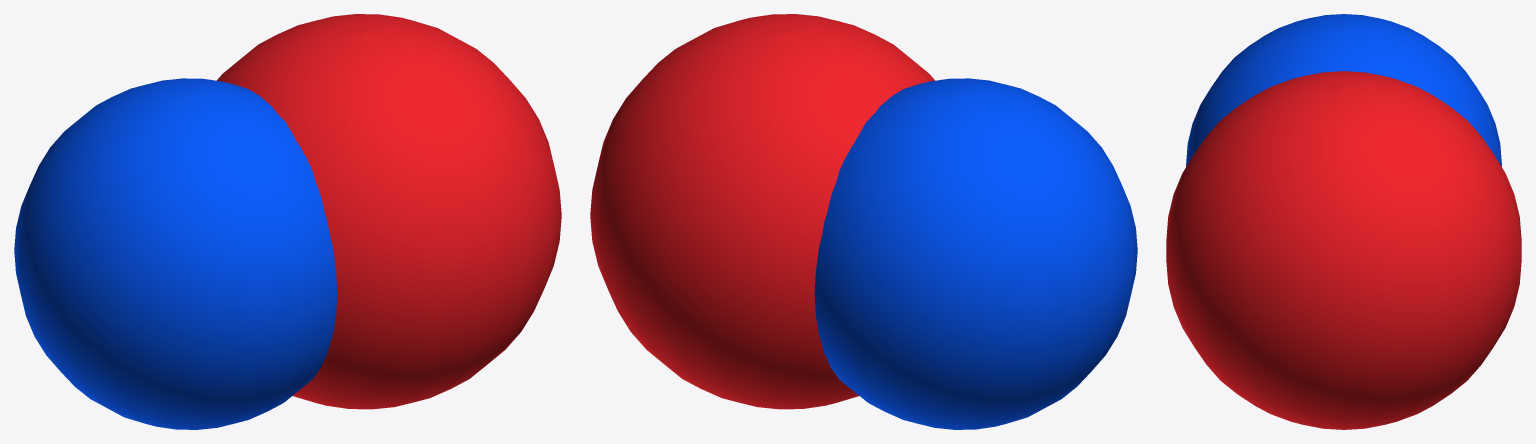
3 views of the same model, side by side, from view 1: azimuth 30°, elevation 25°; view 2: azimuth 150°, elevation 25°; view 3: azimuth 270°, elevation 25° (orthographic). The views are drawn at different scales.
Visible parts, largest first — view 1: Сферы_Node (×2); view 2: Сферы_Node (×2); view 3: Сферы_Node (×2).
Boxes of the visible parts, bbox=[...] form: Сферы_Node (×2): bbox=[14, 14, 561, 429]; Сферы_Node (×2): bbox=[590, 14, 1137, 429]; Сферы_Node (×2): bbox=[1166, 14, 1521, 429].
Size of the model in its own units: 2.29 by 1.57 by 1.56.
Materials: 2 (2 with a texture image).
